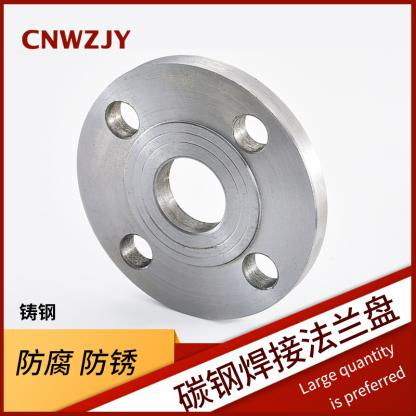FOD: (74, 50, 334, 328)
